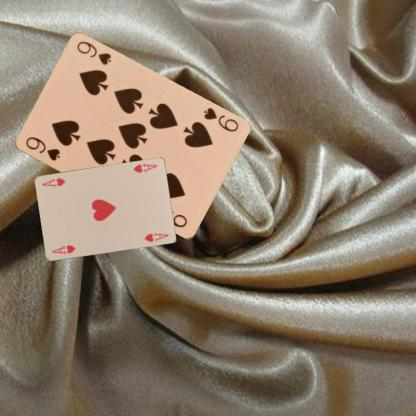9s: (200, 104, 240, 134), (23, 134, 61, 162)
Ah: (131, 160, 158, 174), (49, 243, 76, 256)
